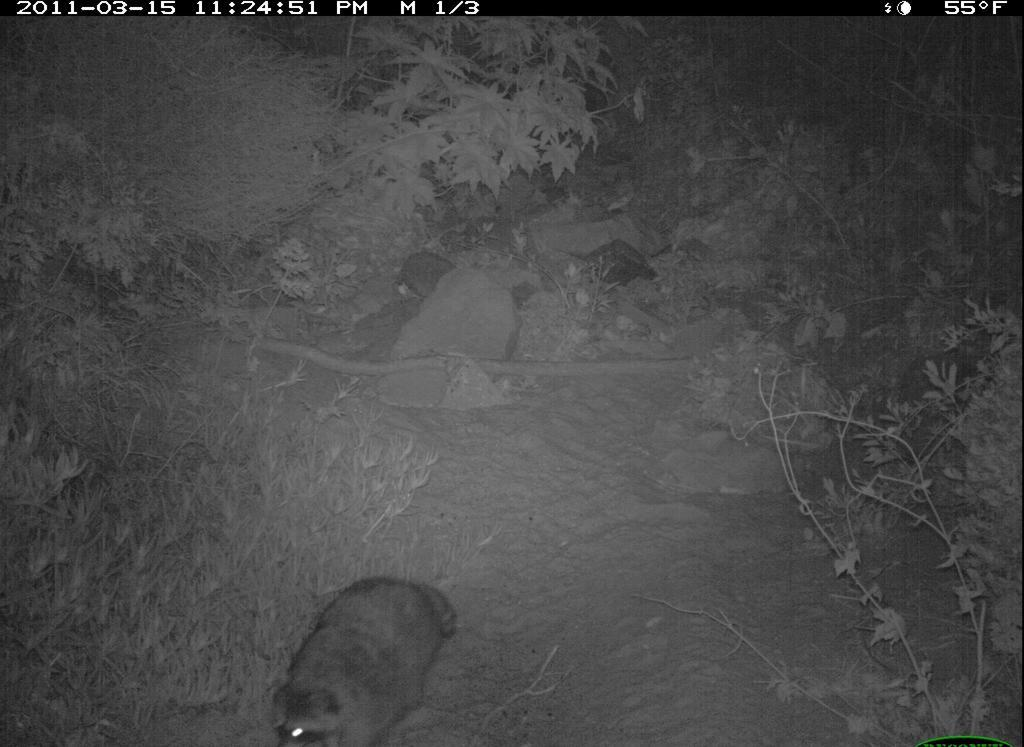raccoon: (263, 550, 482, 747)
